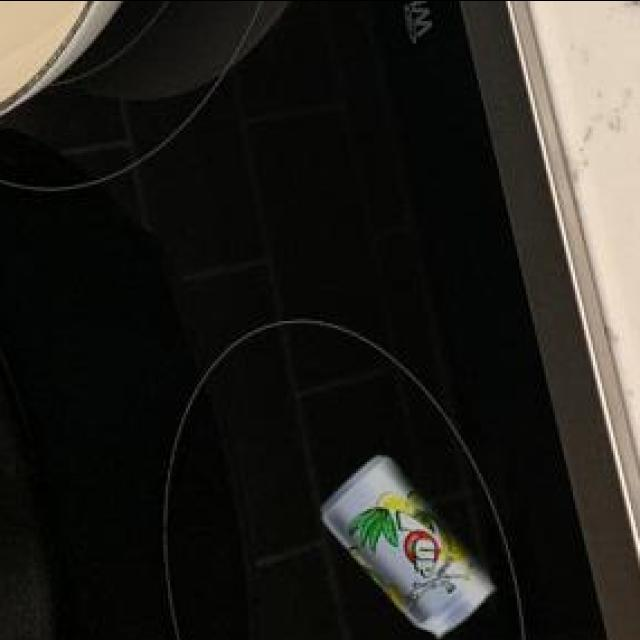logam: (319, 458, 489, 639)
